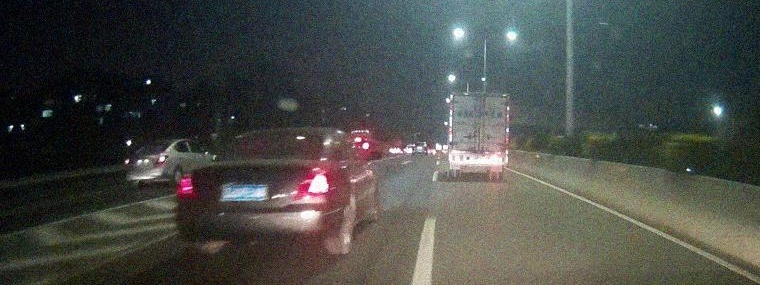L_light: (177, 174, 200, 199), (452, 156, 464, 161), (124, 157, 130, 165)
R_light: (294, 165, 334, 199), (155, 155, 170, 165), (490, 156, 502, 162)
T_light: (269, 131, 290, 136), (477, 94, 487, 97), (155, 141, 164, 144)
night-no: (447, 91, 510, 180), (124, 138, 176, 188)
night-right: (177, 128, 346, 258)
